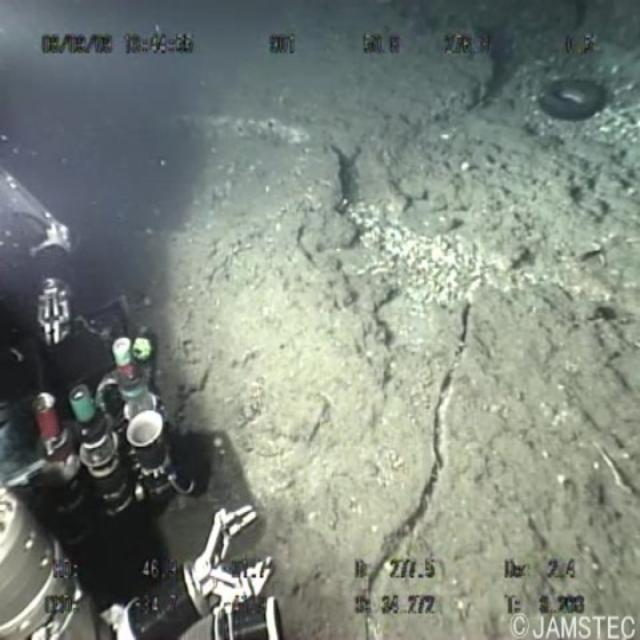Rubber: (527, 52, 625, 144)
